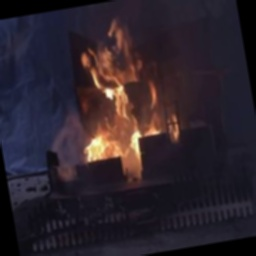fire: (55, 16, 183, 168)
